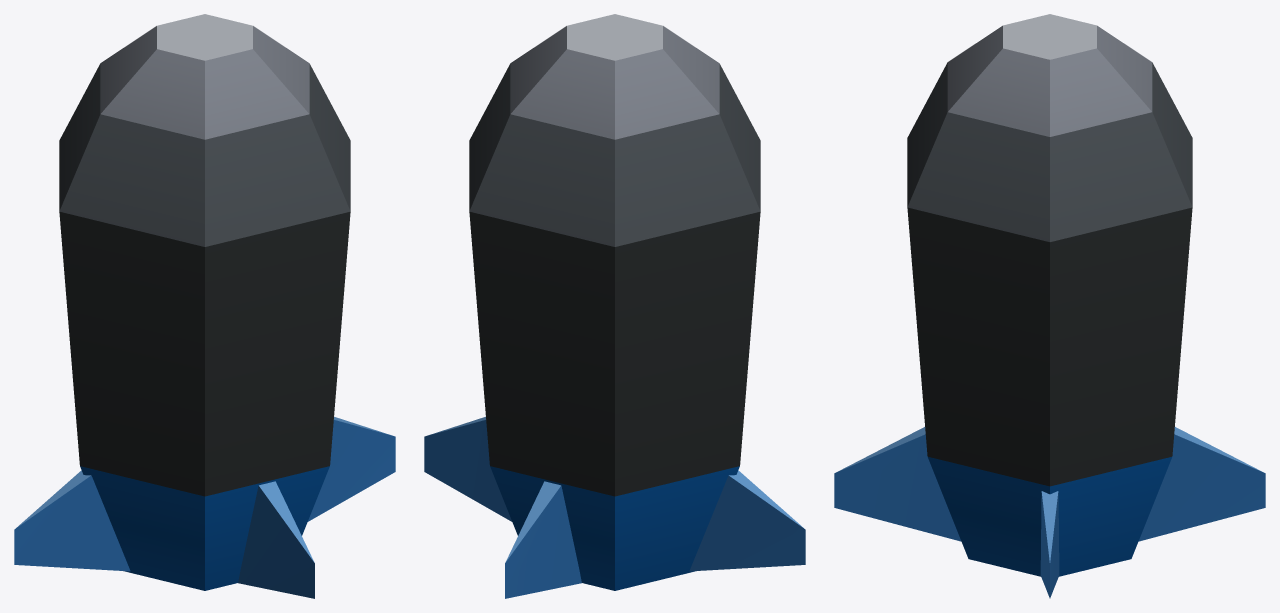
File: TB_CanonTower_Lvl4_A_Rocket.FBX
3 views of the same model, side by side, from view 1: azimuth 30°, elevation 25°; view 2: azimuth 150°, elevation 25°; view 3: azimuth 270°, elevation 25° (orthographic). The views are drawn at different scales.
Parts seen in each view (by area): view 1: TB_CanonTower_Lvl4_A_Rocket; view 2: TB_CanonTower_Lvl4_A_Rocket; view 3: TB_CanonTower_Lvl4_A_Rocket.
Boxes of the visible parts, box(x1,y1,x2,y2) form: TB_CanonTower_Lvl4_A_Rocket: box(14, 14, 395, 598); TB_CanonTower_Lvl4_A_Rocket: box(424, 14, 805, 598); TB_CanonTower_Lvl4_A_Rocket: box(834, 14, 1265, 598).
Bounding box in the file's own units: 3 × 3.85 × 3.
